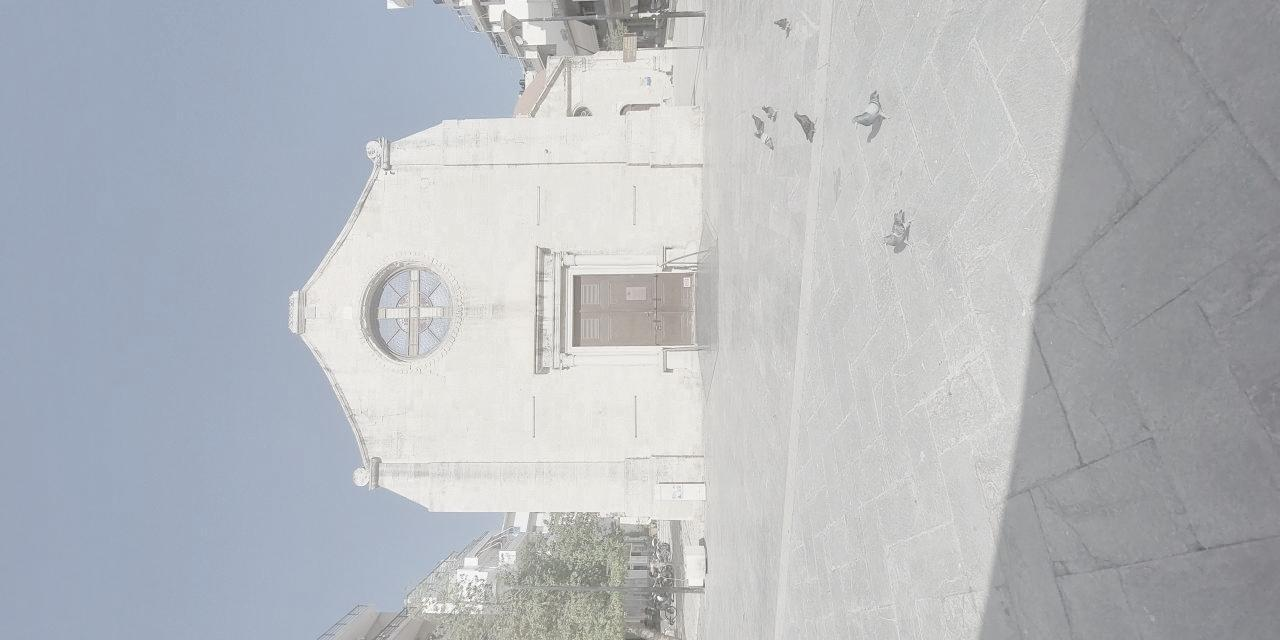Agia Aikaterini: (284, 104, 699, 536)
